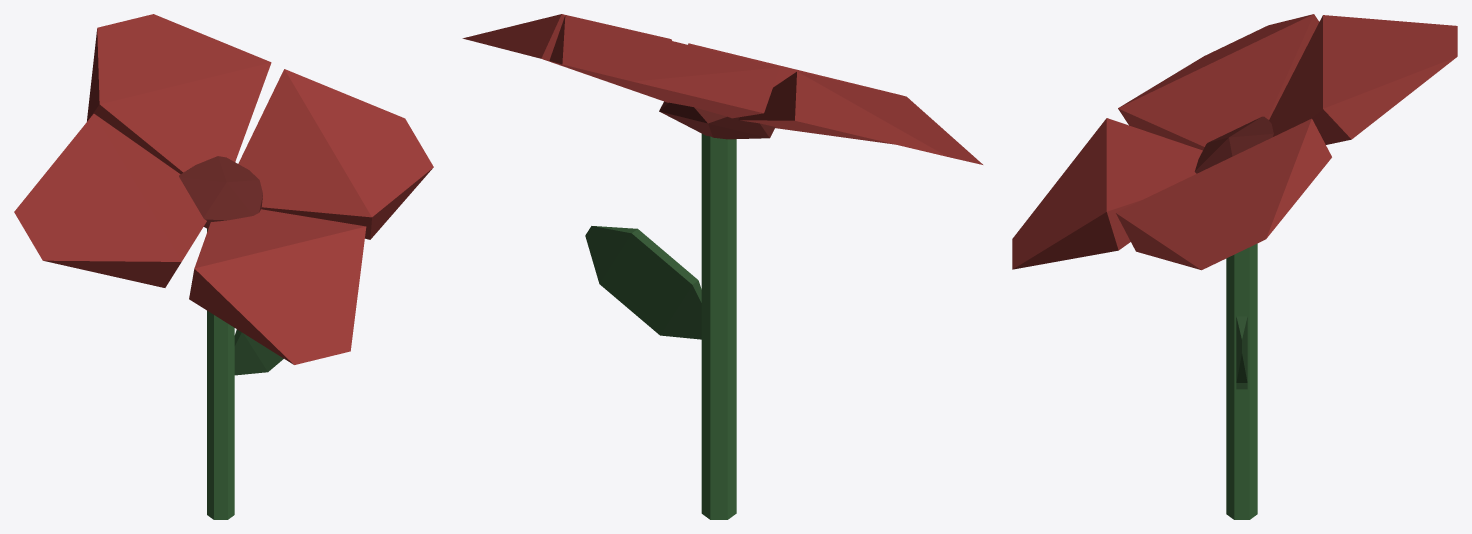
Rendered from Flower_2_Red.fbx.
3 views of the same model, side by side, from view 1: azimuth 30°, elevation 25°; view 2: azimuth 150°, elevation 25°; view 3: azimuth 270°, elevation 25° (orthographic). The views are drawn at different scales.
Parts seen in each view (by area): view 1: Flower_2_Red; view 2: Flower_2_Red; view 3: Flower_2_Red.
Part boxes in pixels (box(x1,y1,x2,y2)): Flower_2_Red: box(14, 14, 433, 519); Flower_2_Red: box(462, 14, 982, 519); Flower_2_Red: box(1012, 14, 1457, 519).
Size of the model in its own units: 45.18 by 46.83 by 39.92.
